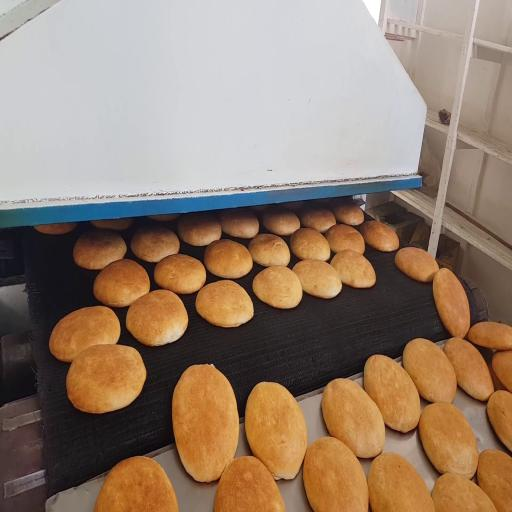bread: (172, 365, 239, 482), (245, 382, 307, 479), (66, 345, 146, 413), (322, 379, 385, 458), (303, 437, 368, 511), (94, 457, 178, 511), (419, 403, 478, 478), (364, 355, 421, 432), (50, 306, 120, 362), (368, 453, 435, 511), (214, 457, 285, 511), (126, 290, 188, 346), (403, 339, 457, 402), (444, 338, 494, 401), (94, 259, 150, 307), (196, 280, 253, 327), (433, 268, 470, 338), (432, 473, 496, 511), (73, 230, 126, 270), (253, 266, 302, 309), (154, 254, 206, 294), (478, 450, 511, 511), (204, 239, 252, 279), (293, 260, 341, 298), (131, 227, 179, 262), (331, 250, 375, 288), (395, 247, 438, 282), (487, 391, 511, 451), (178, 214, 221, 246), (248, 234, 290, 266), (290, 228, 330, 261), (360, 221, 399, 252), (468, 322, 511, 350), (219, 209, 259, 238), (326, 225, 365, 254), (262, 207, 300, 236), (300, 207, 336, 233), (331, 202, 364, 226), (492, 351, 511, 392), (486, 360, 507, 390), (34, 223, 77, 235), (91, 218, 133, 230), (281, 201, 306, 211), (149, 214, 179, 221), (250, 205, 269, 212)
